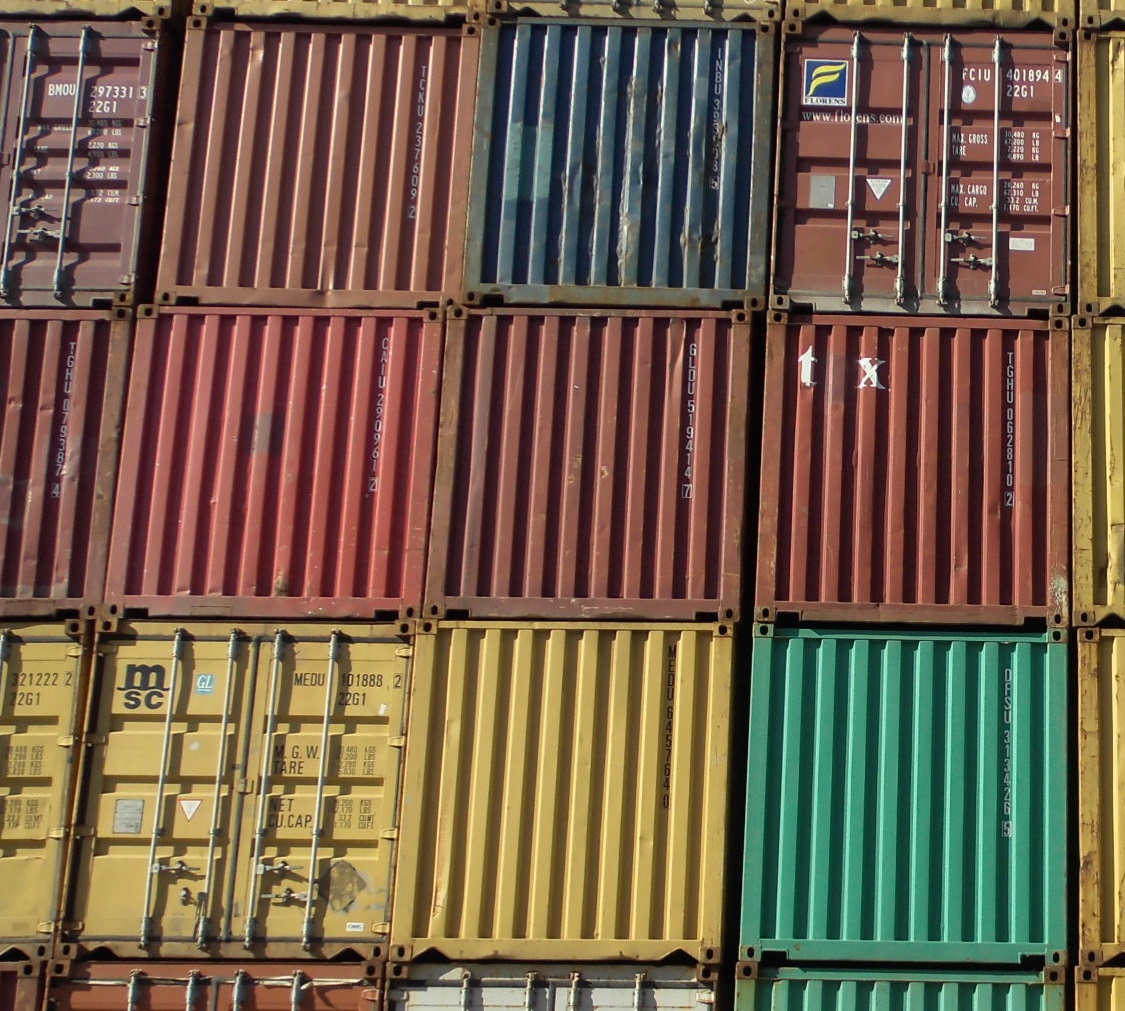container_door: (69, 624, 399, 959), (781, 24, 1071, 305)
container_no_door: (737, 622, 1074, 964), (105, 308, 442, 620), (419, 619, 722, 965), (440, 302, 757, 616), (755, 311, 1072, 624), (147, 26, 474, 307), (475, 20, 768, 307)
